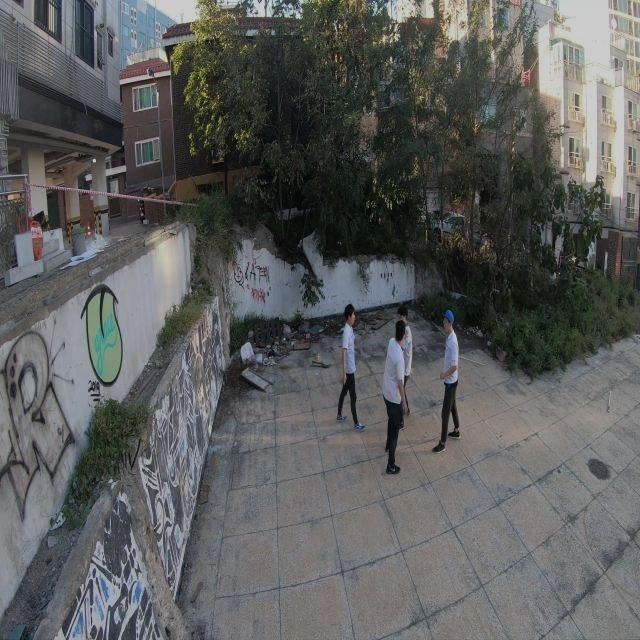non-fight: (377, 316, 414, 475), (432, 308, 463, 452), (334, 303, 362, 430)
